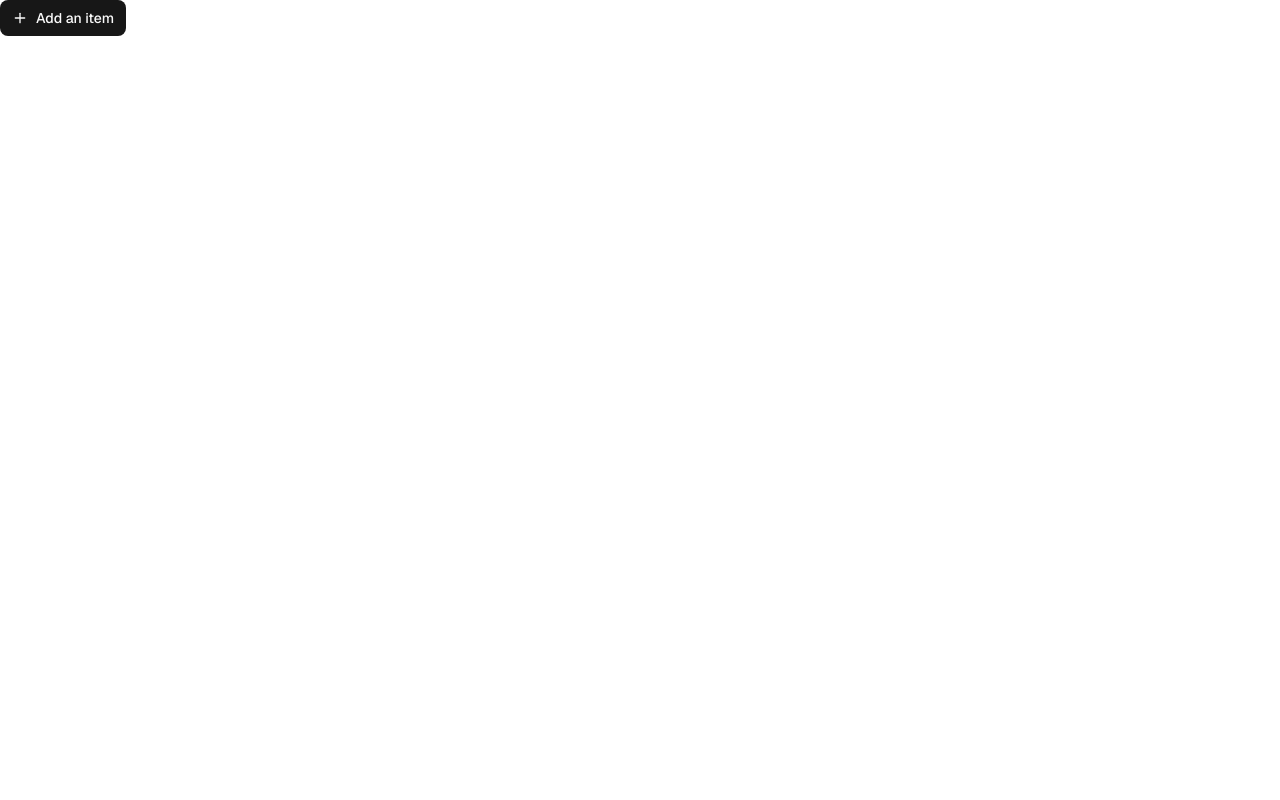
BucketItemDialog (add) › ignores a blank tag and a repeat in any letter case, and other keys do not add
The image size is (1280, 800).
Later steps or results of the test are not shown.
Click the button "Add an item" at coordinates (63, 18), box top-left (0, 0), bottom-right (126, 36)
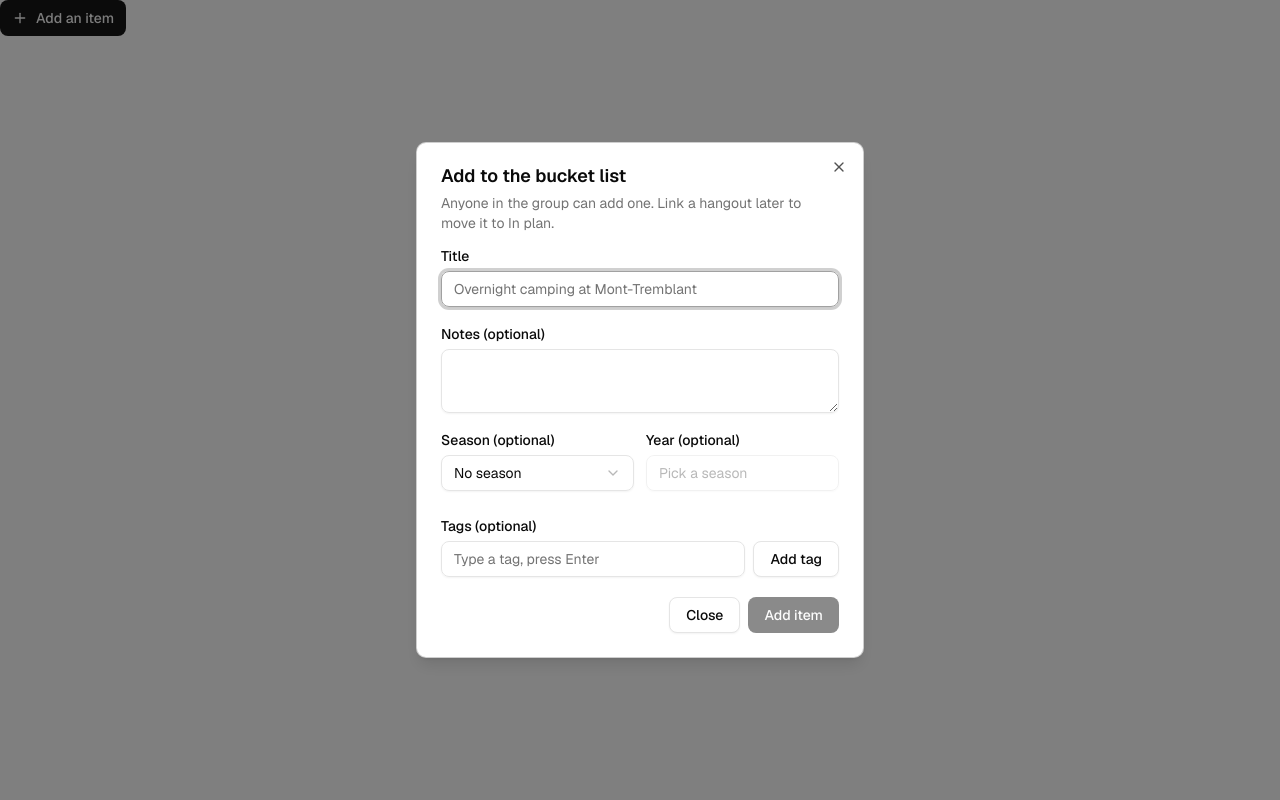
Click the button "Add tag" at coordinates (796, 559), box top-left (753, 541), bottom-right (839, 577)
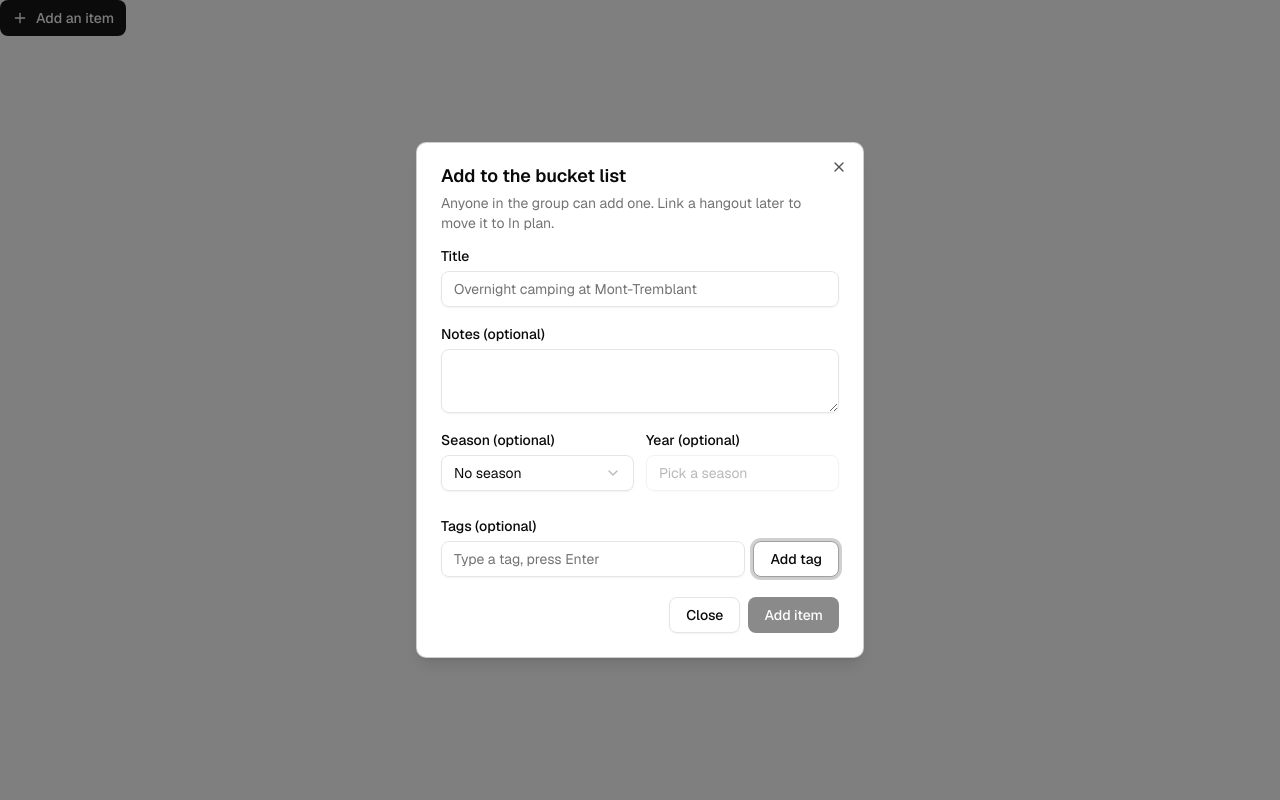
Type "Food" into the field named "New tag" at coordinates (593, 559), box top-left (441, 541), bottom-right (745, 577)
Then press Enter
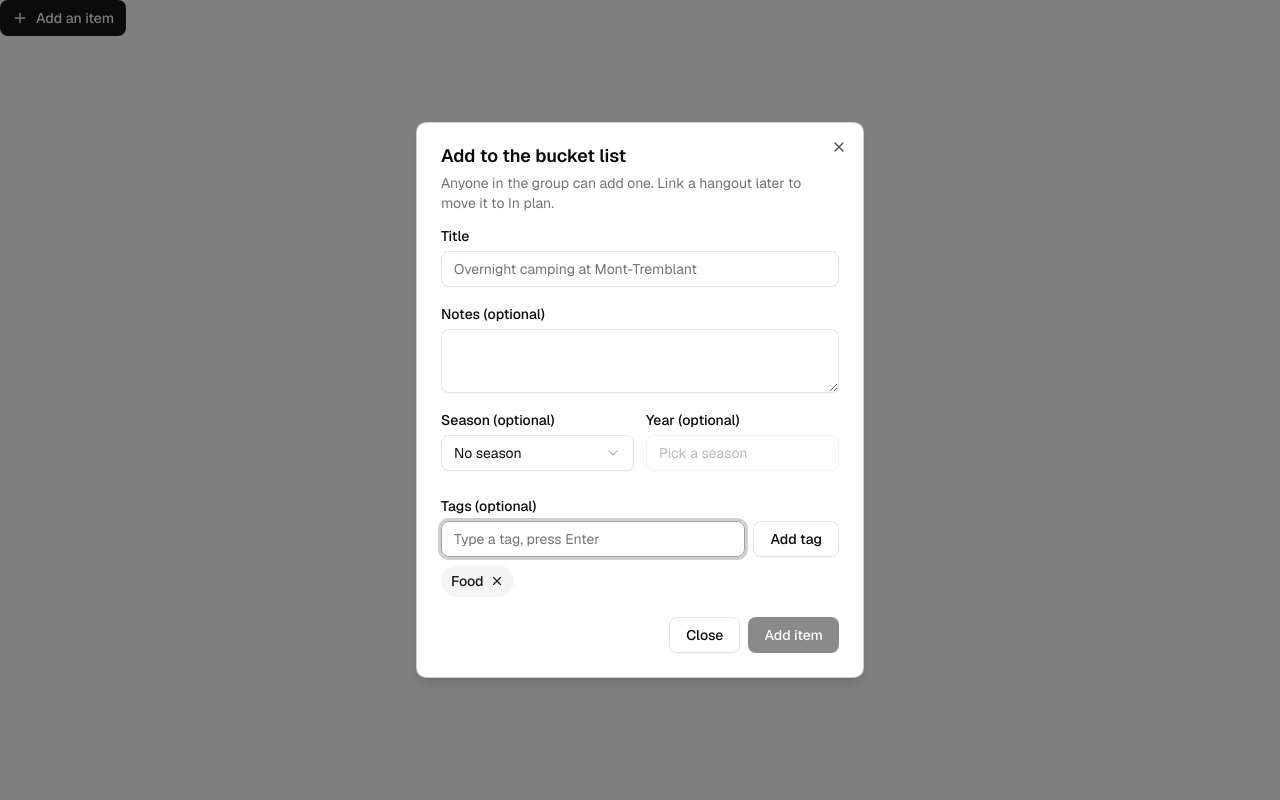
Type "food" into the field named "New tag" at coordinates (593, 539), box top-left (441, 521), bottom-right (745, 557)
Then press Enter
Result: the number of buttons named "Remove tag" is 1 at top-left (441, 565), bottom-right (514, 597)
